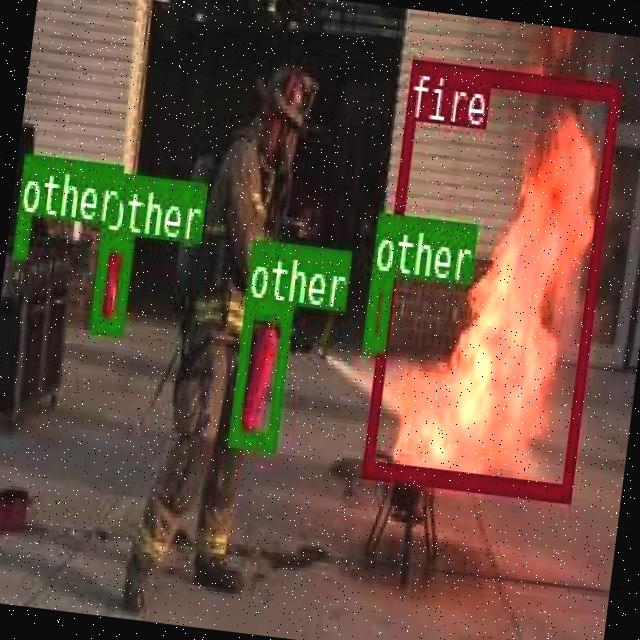fire: (361, 59, 618, 498)
